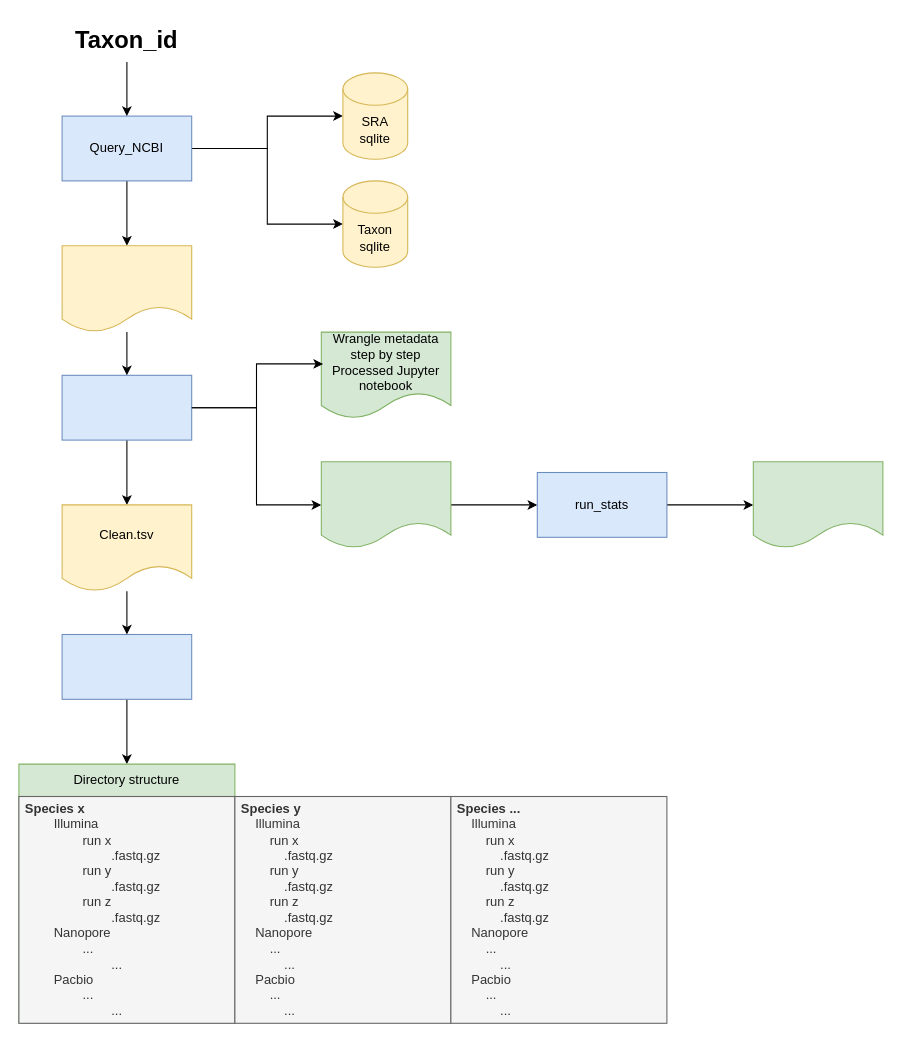
Some shapes in this 902 by 1042 pixel diagram are drawn without their labels. The shapes that lost their labels are listed below. From the top down, each one's box as (x1, y1, x2, y2) in pixels, then its label:
(61, 245, 192, 332): SRA.feather
(61, 374, 192, 440): Wrangle_metadata
(320, 461, 451, 548): Metadata.csv
(752, 461, 883, 548): Processed Statistics Jupyter notebook
(61, 633, 192, 699): Download_files
